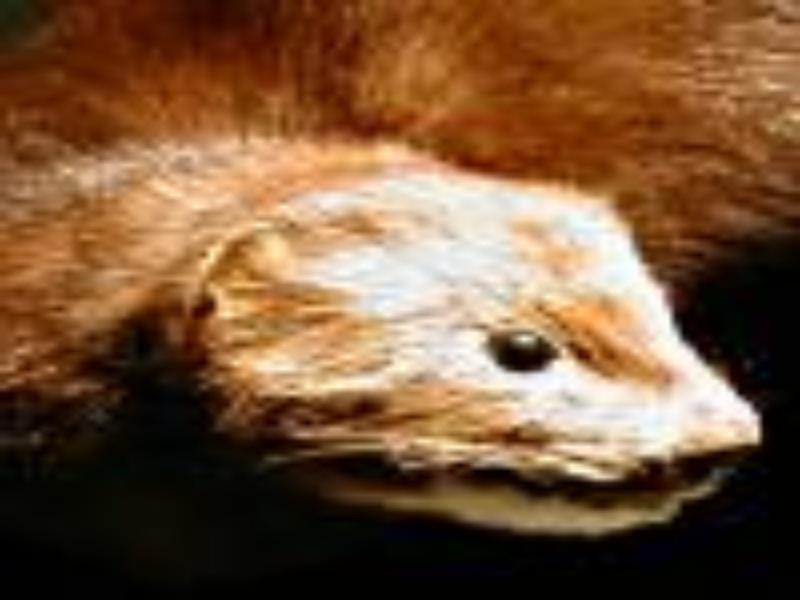minkish: (1, 17, 777, 554)
